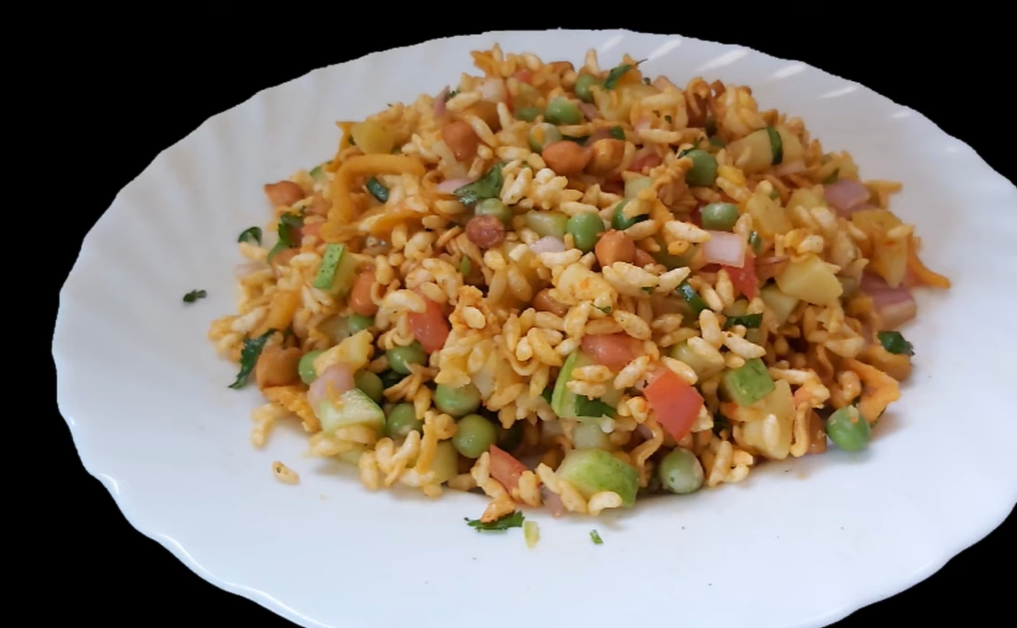chatpate: (274, 76, 890, 460)
